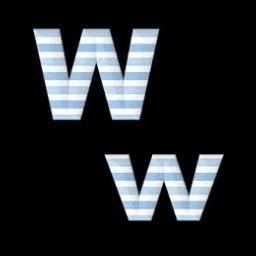w: (32, 22, 168, 126), (96, 148, 224, 228)
